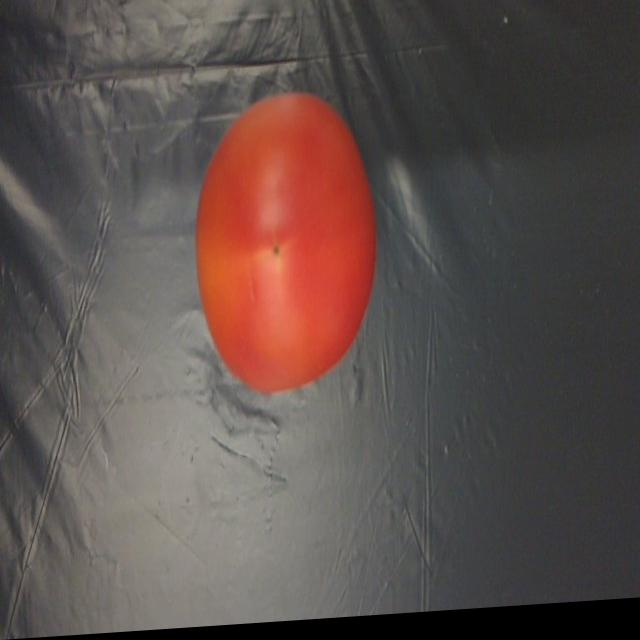kirmizi: (187, 91, 374, 407)
